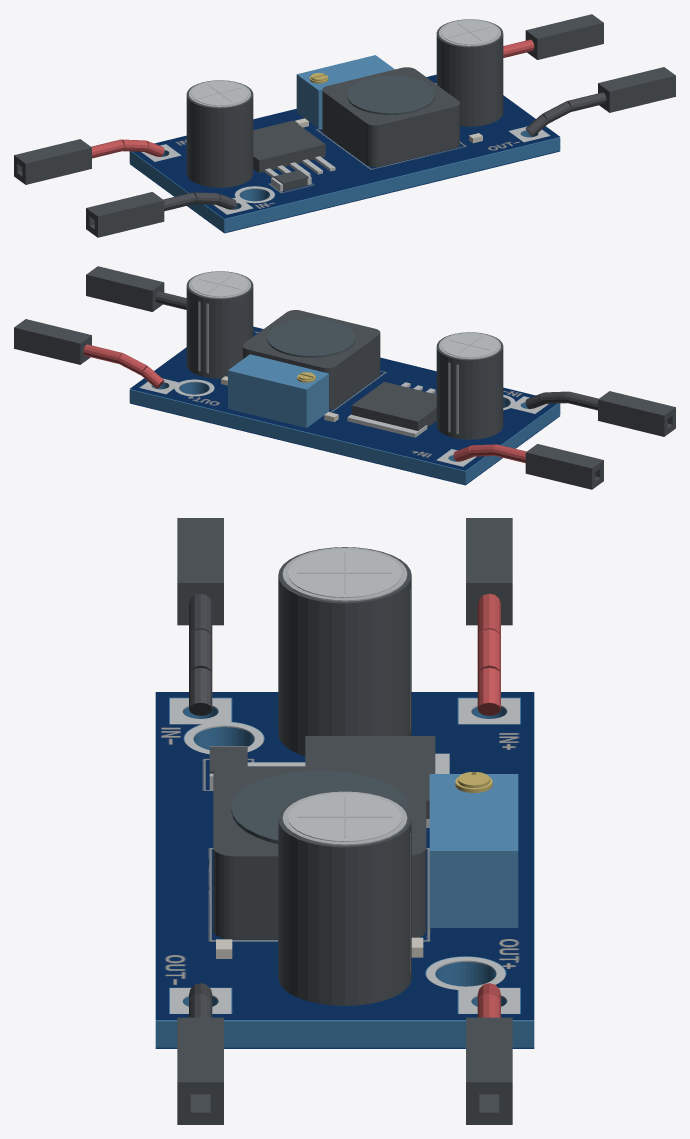
3 renders of one model, top to bottom at view 1: azimuth 30°, elevation 25°; view 2: azimuth 150°, elevation 25°; view 3: azimuth 270°, elevation 25°, orthographic. The views are drawn at different scales.
Visible parts, largest first — view 1: LM2596_top_labels, inductor_housing, PCB, capacitor_can_-16.0, capacitor_can_16.0, inductor_round_top, regulator_body, trimmer_body, lm_female_0, lm_female_1, lm_female_2, lm_female_3 (+10 smaller); view 2: LM2596_top_labels, PCB, trimmer_body, capacitor_can_-16.0, capacitor_can_16.0, inductor_housing, regulator_body, inductor_round_top, lm_female_0, lm_female_1, lm_female_3, lm_female_2 (+12 smaller); view 3: LM2596_top_labels, capacitor_can_16.0, capacitor_can_-16.0, trimmer_body, inductor_housing, PCB, inductor_round_top, lm_female_3, lm_female_2, capacitor_top_-16.0, capacitor_top_16.0, regulator_body (+16 smaller).
Boxes of the visible parts, x1=… form: LM2596_top_labels: x1=133, y1=74, x2=559, y2=218; inductor_housing: x1=322, y1=67, x2=459, y2=166; PCB: x1=129, y1=78, x2=560, y2=232; capacitor_can_-16.0: x1=186, y1=80, x2=253, y2=187; capacitor_can_16.0: x1=436, y1=19, x2=503, y2=126; inductor_round_top: x1=347, y1=76, x2=435, y2=114; regulator_body: x1=253, y1=120, x2=325, y2=172; trimmer_body: x1=296, y1=55, x2=394, y2=128; lm_female_0: x1=14, y1=140, x2=88, y2=184; lm_female_1: x1=86, y1=193, x2=160, y2=237; lm_female_2: x1=530, y1=14, x2=603, y2=58; lm_female_3: x1=602, y1=67, x2=675, y2=111; LM2596_top_labels: x1=130, y1=326, x2=556, y2=470; PCB: x1=129, y1=330, x2=560, y2=484; trimmer_body: x1=228, y1=354, x2=328, y2=427; capacitor_can_-16.0: x1=436, y1=332, x2=503, y2=439; capacitor_can_16.0: x1=186, y1=271, x2=253, y2=378; inductor_housing: x1=242, y1=310, x2=380, y2=409; regulator_body: x1=351, y1=382, x2=436, y2=430; inductor_round_top: x1=267, y1=318, x2=355, y2=357; lm_female_0: x1=529, y1=445, x2=603, y2=489; lm_female_1: x1=601, y1=392, x2=675, y2=436; lm_female_3: x1=86, y1=266, x2=159, y2=310; lm_female_2: x1=14, y1=319, x2=87, y2=363; LM2596_top_labels: x1=155, y1=692, x2=534, y2=1019; capacitor_can_16.0: x1=278, y1=791, x2=411, y2=1005; capacitor_can_-16.0: x1=278, y1=547, x2=411, y2=755; trimmer_body: x1=429, y1=774, x2=518, y2=927; inductor_housing: x1=213, y1=766, x2=426, y2=939; PCB: x1=155, y1=697, x2=534, y2=1047; inductor_round_top: x1=231, y1=770, x2=407, y2=843; lm_female_3: x1=177, y1=1021, x2=223, y2=1124; lm_female_2: x1=466, y1=1021, x2=512, y2=1124; capacitor_top_-16.0: x1=288, y1=549, x2=401, y2=597; capacitor_top_16.0: x1=288, y1=793, x2=401, y2=841; regulator_body: x1=305, y1=736, x2=435, y2=819.
Size of the model in its own units: 0.074 by 0.0116 by 0.021.
Materials: 2 (2 with a texture image).
